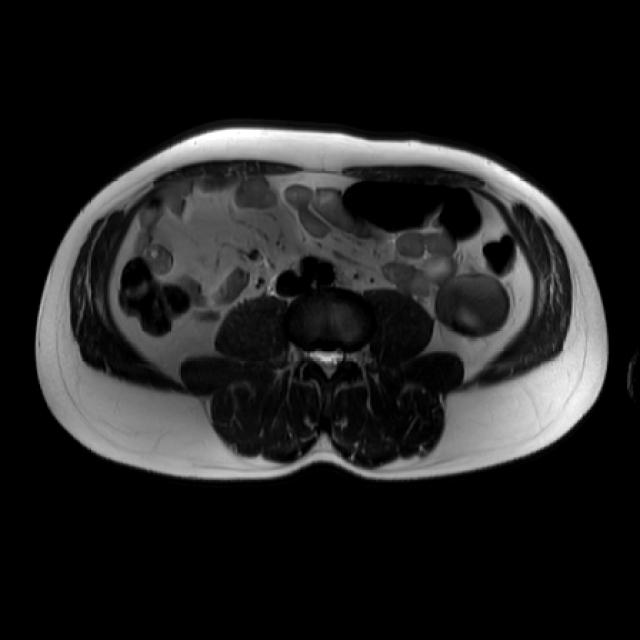sol: (424, 253, 508, 336)
